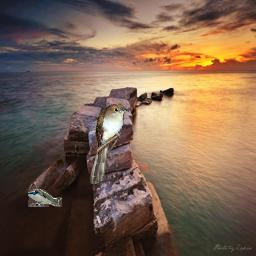Cuckoo: (90, 103, 129, 184)
Swallow: (28, 189, 62, 207)
